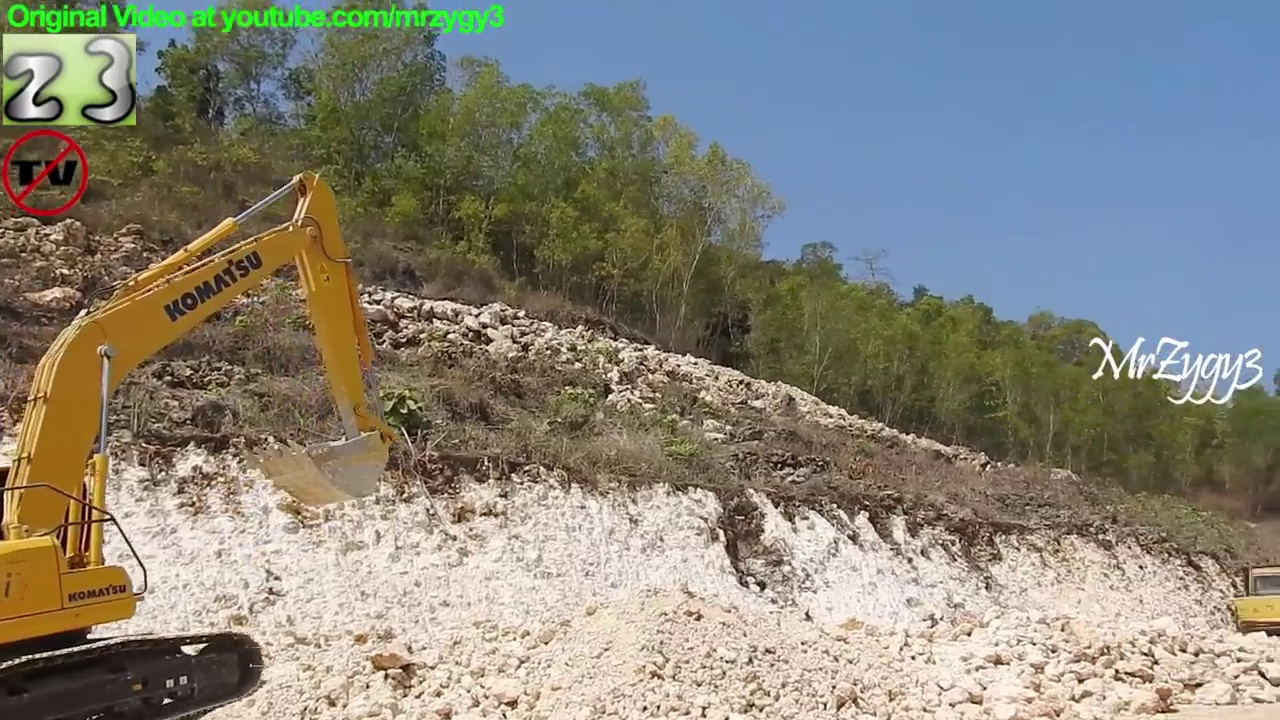excavator: (3, 168, 398, 720)
